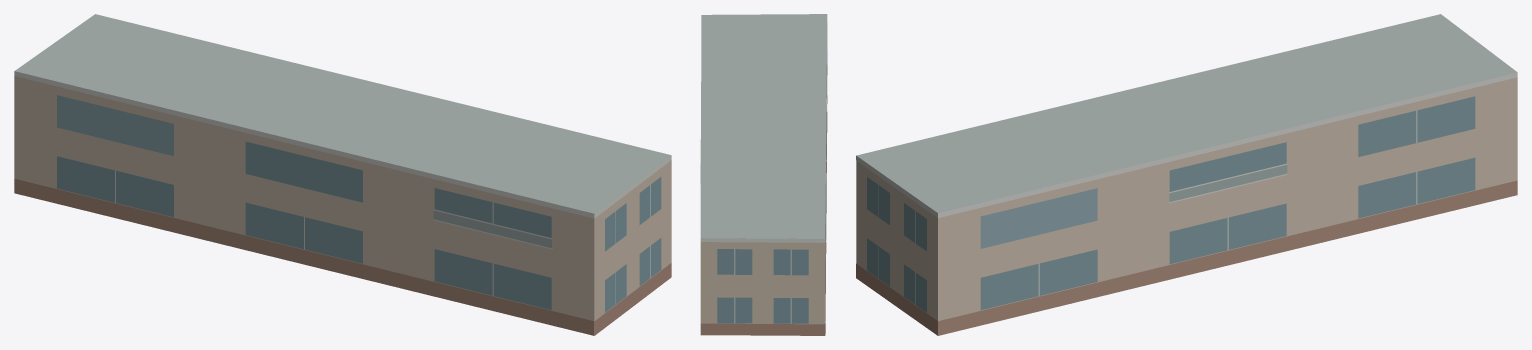
Rendered from survey-upis-32718357.glb.
The picture shows the model from 3 angles, left to right: view 1: azimuth 30°, elevation 25°; view 2: azimuth 150°, elevation 25°; view 3: azimuth 270°, elevation 25°; orthographic projection. The views are drawn at different scales.
Parts seen in each view (by area): view 1: survey-upis-32718357.tmp; view 2: survey-upis-32718357.tmp; view 3: survey-upis-32718357.tmp.
Boxes of the visible parts, x1,y1,x2,y2 form: survey-upis-32718357.tmp: [14, 14, 671, 335]; survey-upis-32718357.tmp: [700, 14, 827, 335]; survey-upis-32718357.tmp: [856, 14, 1517, 335].
Size of the model in its own units: 21.26 by 6.1 by 29.82.
